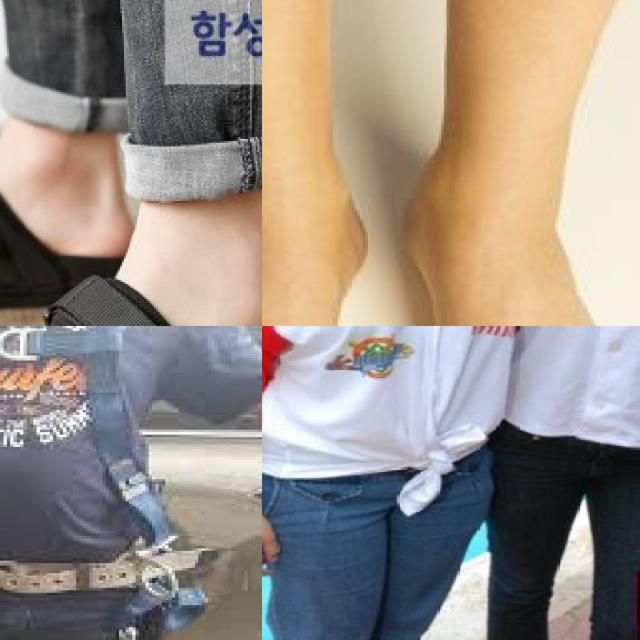Barefoots: (262, 199, 640, 326)
Harness: (0, 326, 164, 640)
Sandals: (0, 259, 262, 326)
hand_noglove: (262, 506, 294, 583)
person: (262, 326, 507, 640), (493, 326, 640, 640)
